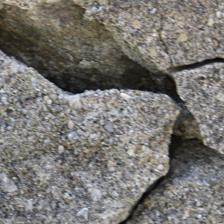Crack: (4, 4, 170, 101), (122, 110, 187, 223), (163, 54, 221, 86)
